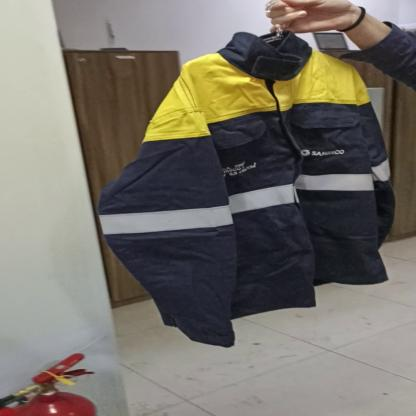C_eletrica: (100, 38, 403, 345)
